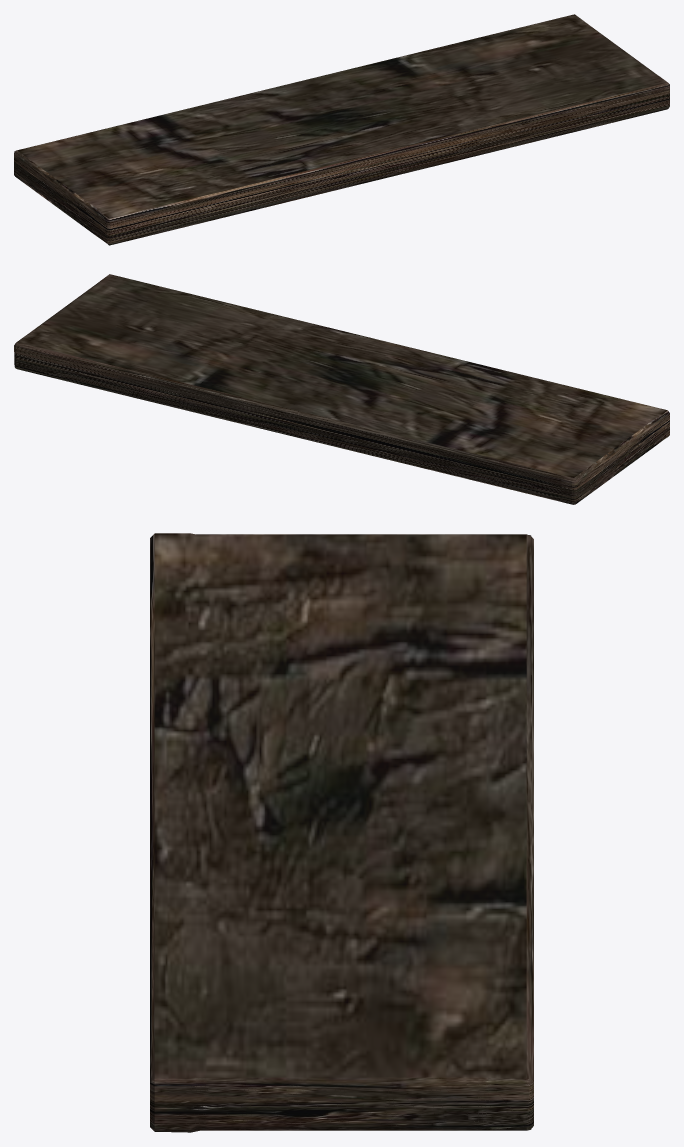
File: Plank2.glb
3 views of the same model, one above another, from view 1: azimuth 30°, elevation 25°; view 2: azimuth 150°, elevation 25°; view 3: azimuth 270°, elevation 25° (orthographic). The views are drawn at different scales.
Parts seen in each view (by area): view 1: Cube; view 2: Cube; view 3: Cube.
Part boxes in pixels (left/top/right/bottom): Cube: left=14, top=14, right=669, bottom=245; Cube: left=14, top=274, right=669, bottom=504; Cube: left=150, top=533, right=533, bottom=1132.
Size of the model in its own units: 0.88 by 0.041 by 0.26.
1 material, 1 textured.
